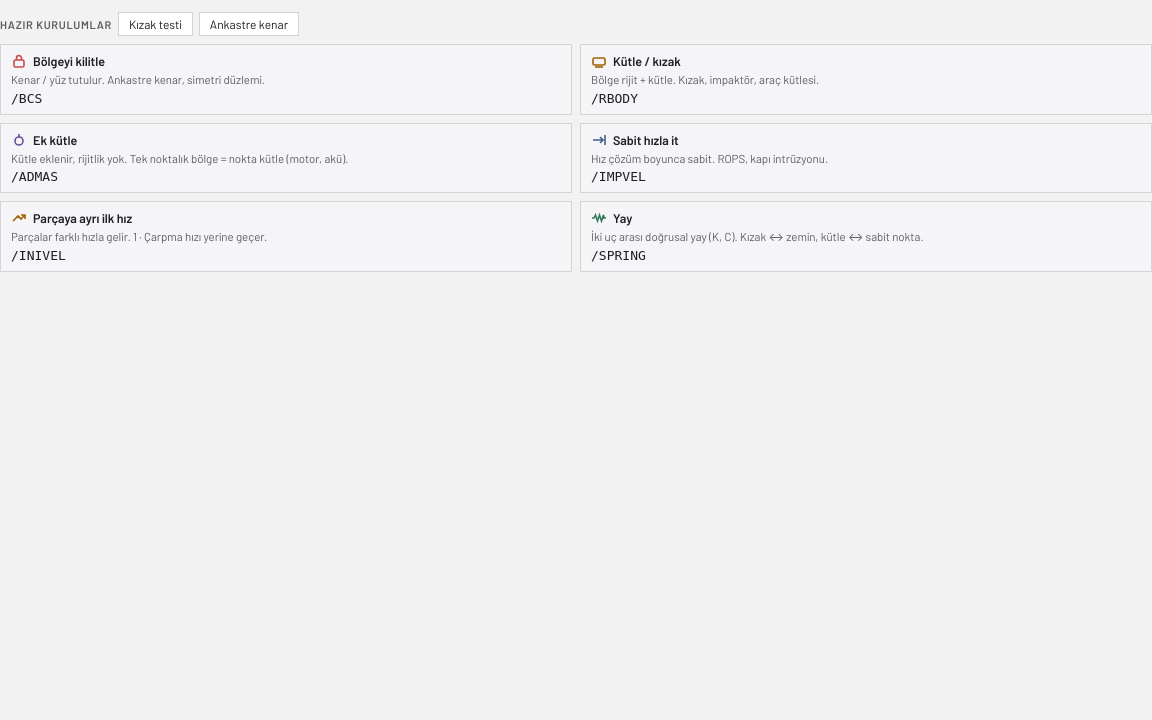
it: CrashLoadCards › hazır kurulum 'Kızak testi': arka bölge, rayda, kütle boş (mühendis girer)
Click the button "Kızak testi" at [155, 24], box [118, 12, 193, 36]
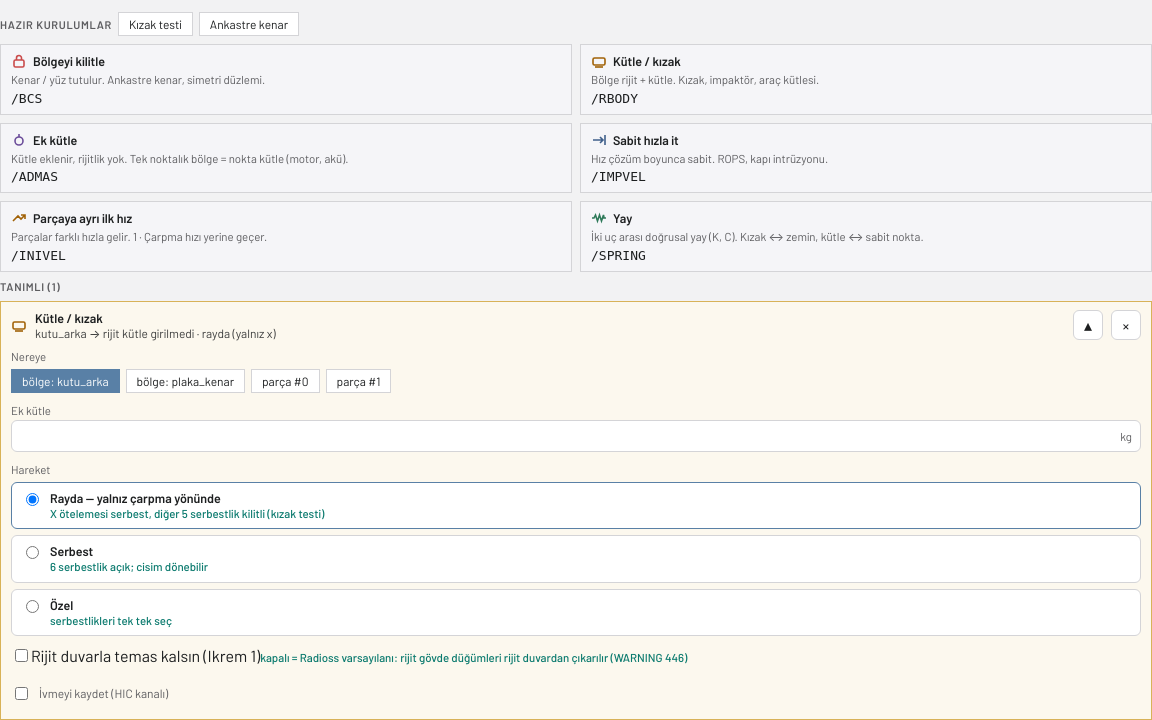
expect the text with test id "crash-card-summary" reads "kutu_arka → rijit kütle girilmedi · rayda (yalnız x)": met, box [35, 326, 276, 340]
Type "40" into the field labelled "Ek kütle" at [566, 436], box [12, 420, 1120, 450]
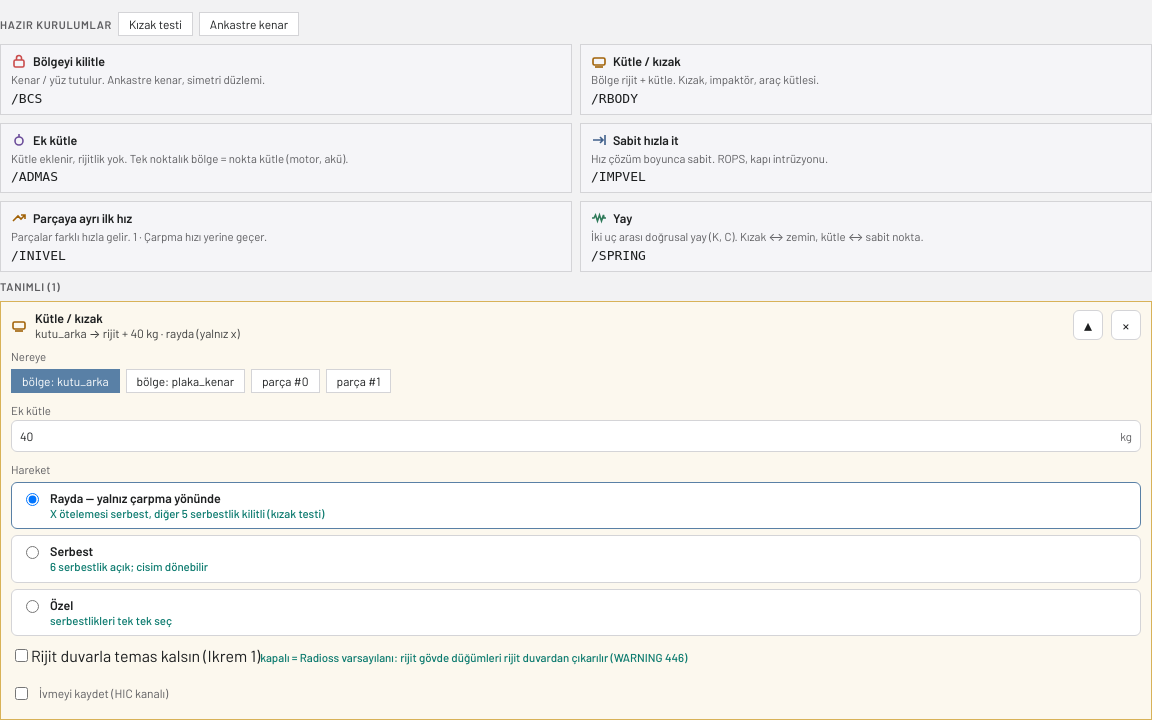
expect the text with test id "crash-card-summary" reads "kutu_arka → rijit + 40 kg · rayda (yalnız x)": met, box [35, 326, 240, 340]
